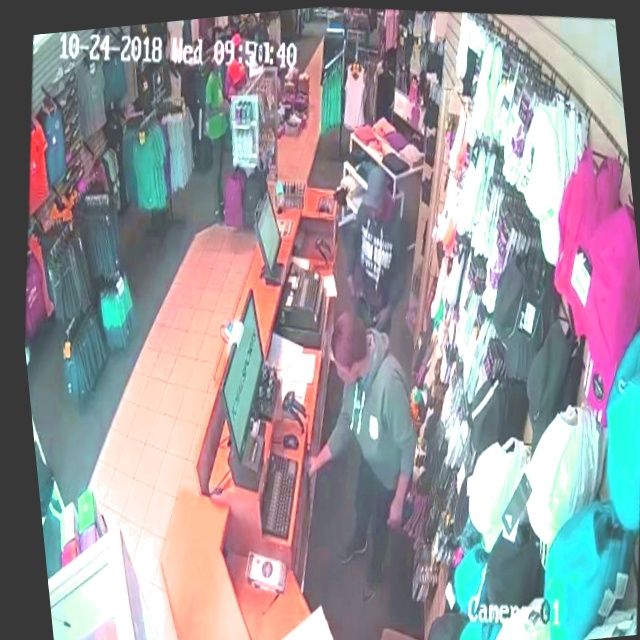gun: (348, 282, 380, 323)
